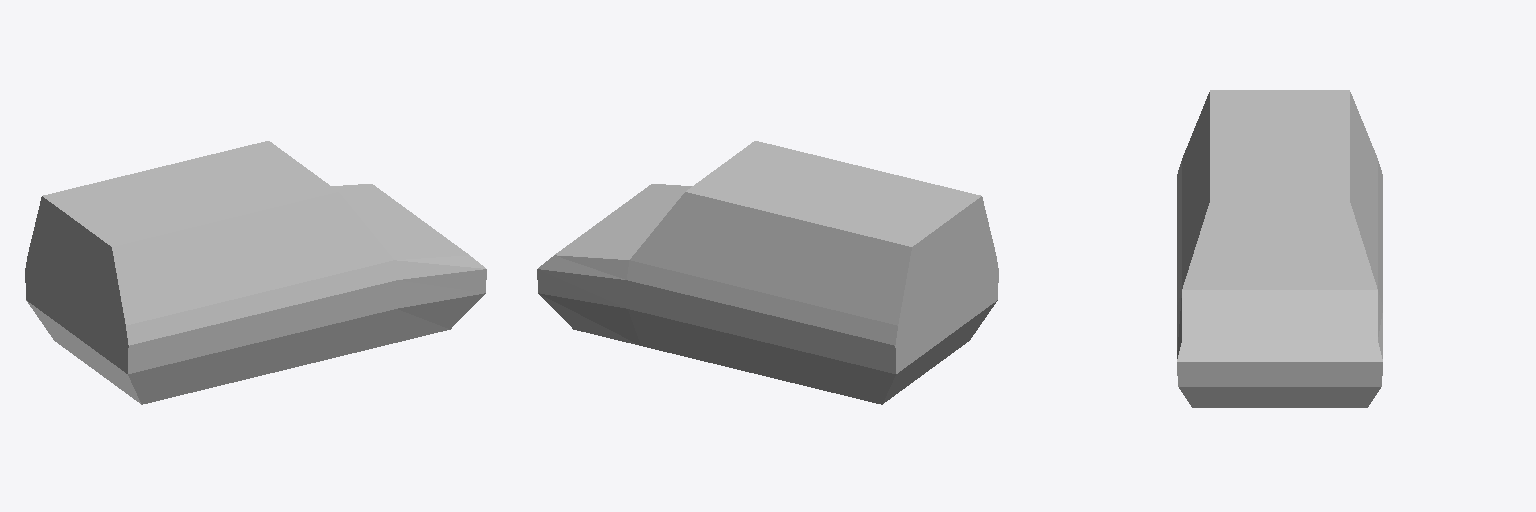
File: car_combi.obj
3 views of the same model, side by side, from view 1: azimuth 30°, elevation 25°; view 2: azimuth 150°, elevation 25°; view 3: azimuth 270°, elevation 25° (orthographic).
Visible parts, largest first — view 1: Cube.002; view 2: Cube.002; view 3: Cube.002.
Part boxes in pixels (x1,y1,x2,y2): Cube.002: (25, 141, 486, 404); Cube.002: (537, 141, 998, 404); Cube.002: (1177, 90, 1382, 407).
Size of the model in its own units: 4 by 1.67 by 2.